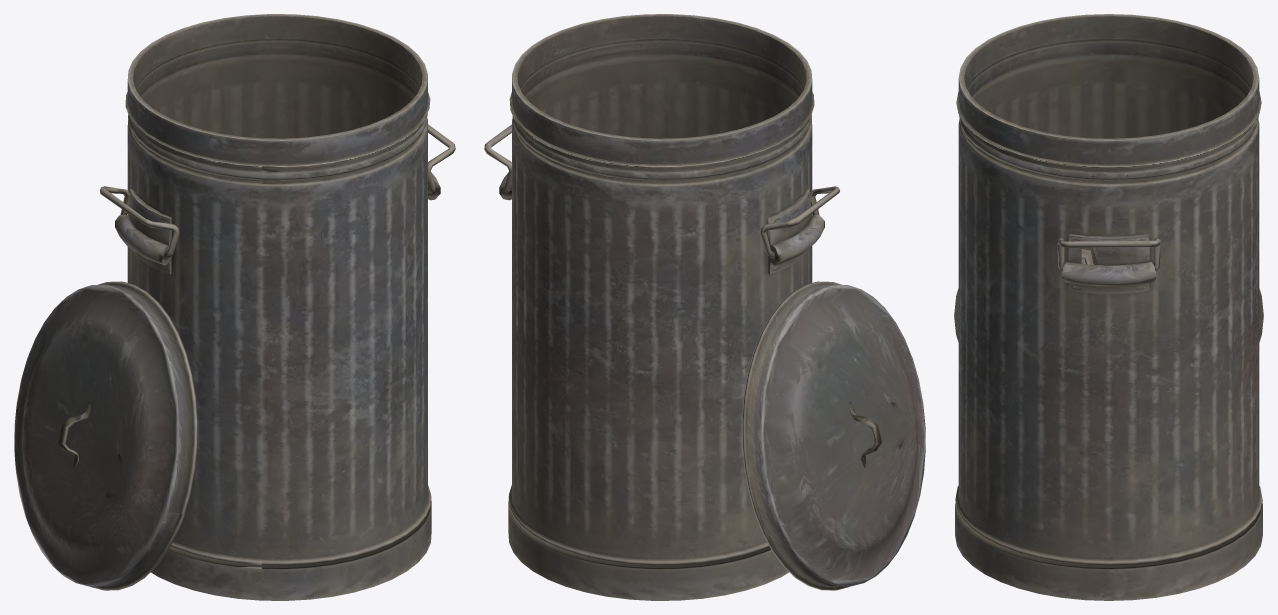
The model's file is metal-trash-can.glb.
3 views of the same model, side by side, from view 1: azimuth 30°, elevation 25°; view 2: azimuth 150°, elevation 25°; view 3: azimuth 270°, elevation 25° (orthographic).
Parts seen in each view (by area): view 1: metal_trash_can; view 2: metal_trash_can; view 3: metal_trash_can.
Boxes of the visible parts, <box> form: metal_trash_can: <box>14,14,455,600</box>; metal_trash_can: <box>484,14,925,600</box>; metal_trash_can: <box>954,14,1263,600</box>.
Bounding box in the file's own units: 0.7773 × 0.9062 × 0.5549.
1 material, 1 textured.
